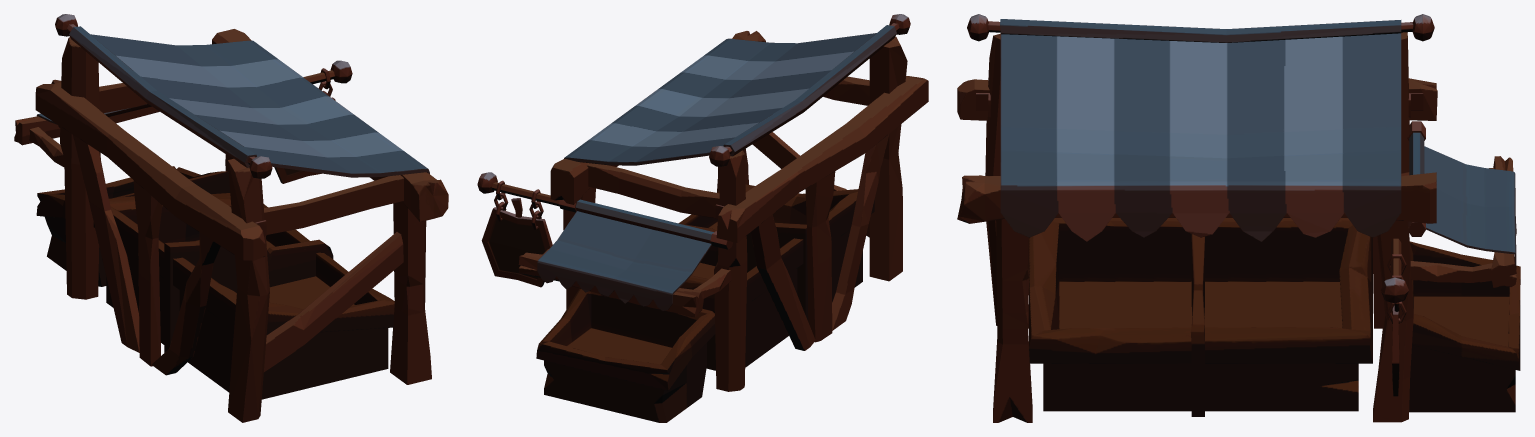
Rendered from MediumStallSideCart.gltf.
The picture shows the model from 3 angles, left to right: view 1: azimuth 30°, elevation 25°; view 2: azimuth 150°, elevation 25°; view 3: azimuth 270°, elevation 25°; orthographic projection. The views are drawn at different scales.
Parts seen in each view (by area): view 1: tent03; view 2: tent03; view 3: tent03.
Part boxes in pixels (box(x1,y1,x2,y2)): tent03: box(14, 14, 448, 422); tent03: box(477, 14, 928, 422); tent03: box(957, 14, 1520, 422).
Bounding box in the file's own units: 0.048 × 0.0425 × 0.0691.
1 material, 1 textured.
